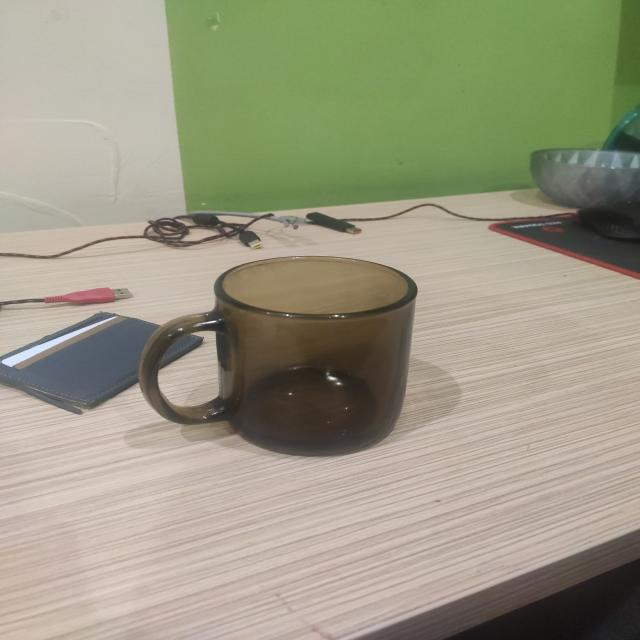cups: (138, 256, 417, 456)
